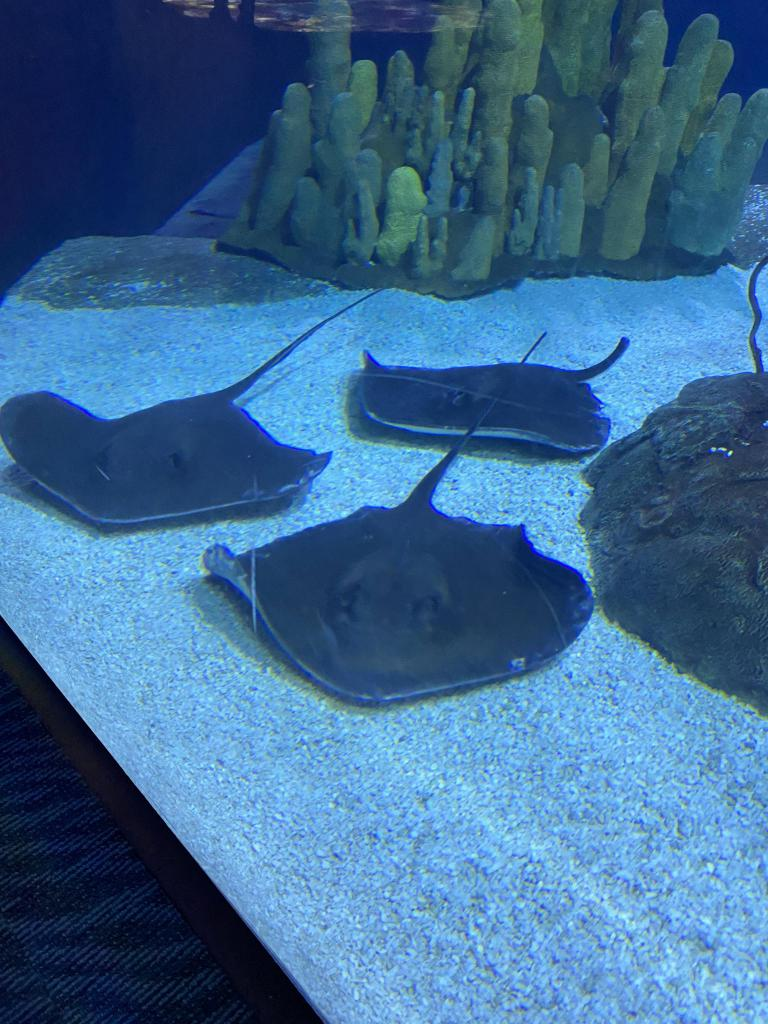stingray: (202, 502, 594, 702), (0, 390, 331, 527), (359, 352, 610, 454)
